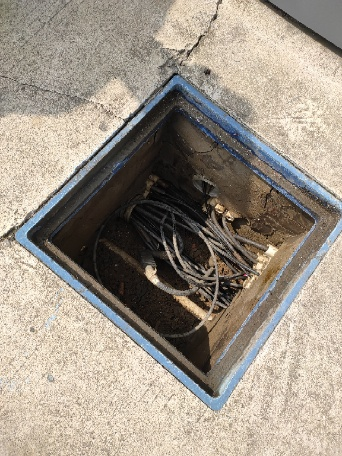lose: (14, 75, 342, 412)
